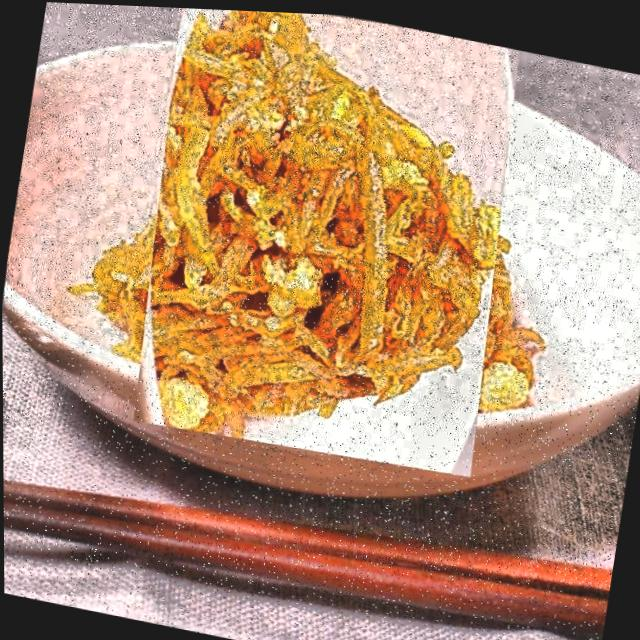Food: (94, 3, 557, 468)
